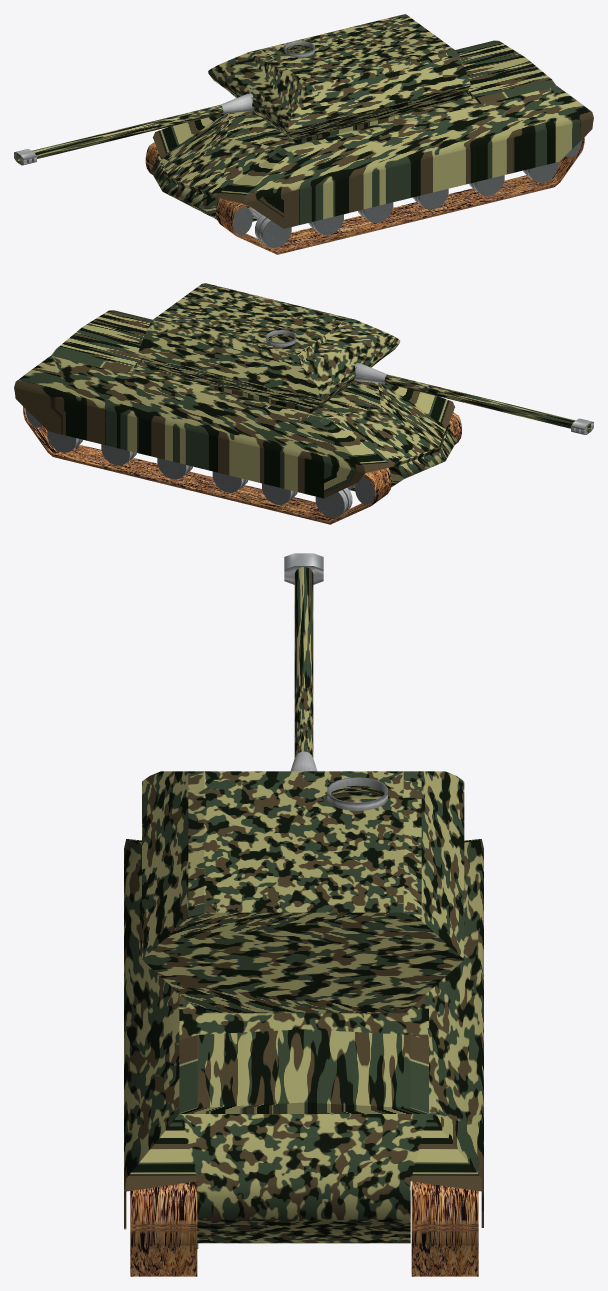
File: KPZ 20T.fbx
3 views of the same model, one above another, from view 1: azimuth 30°, elevation 25°; view 2: azimuth 150°, elevation 25°; view 3: azimuth 270°, elevation 25° (orthographic). The views are drawn at different scales.
Parts seen in each view (by area): view 1: Box443, Box450, pás030, 128mm dělo042, Cylinder330, část děla039, Cylinder316, Cylinder321, Cylinder325, Cylinder318, Cylinder328, pás032 (+1 smaller); view 2: Box443, Box450, pás029, 128mm dělo042, Cylinder297, Cylinder304, Cylinder310, část děla039, Cylinder301, Cylinder307, Cylinder298, pás027 (+1 smaller); view 3: Box443, Box450, 128mm dělo042, pás030, pás029, pás032, pás027, Cylinder341, Box445.
Boxes of the visible parts, box(x1,y1,x2,y2) form: Box443: box(150, 40, 593, 228); Box450: box(208, 14, 471, 143); pás030: box(216, 139, 584, 254); 128mm dělo042: box(16, 105, 223, 163); Cylinder330: box(259, 218, 291, 247); část děla039: box(220, 93, 253, 113); Cylinder316: box(526, 162, 558, 182); Cylinder321: box(416, 189, 448, 209); Cylinder325: box(361, 202, 393, 222); Cylinder318: box(472, 175, 504, 195); Cylinder328: box(311, 214, 343, 235); pás032: box(216, 137, 584, 223); Box443: box(14, 310, 457, 498); Box450: box(137, 283, 400, 413); pás029: box(23, 408, 391, 524); 128mm dělo042: box(384, 374, 591, 432); Cylinder297: box(315, 490, 347, 517); Cylinder304: box(157, 458, 189, 479); Cylinder310: box(47, 430, 79, 452); část děla039: box(354, 363, 387, 383); Cylinder301: box(212, 471, 244, 492); Cylinder307: box(101, 444, 133, 465); Cylinder298: box(262, 483, 294, 504); pás027: box(23, 406, 391, 493); Box443: box(124, 839, 483, 1243); Box450: box(142, 771, 464, 1013); 128mm dělo042: box(294, 567, 313, 757); pás030: box(130, 1227, 197, 1276); pás029: box(411, 1227, 478, 1276); pás032: box(130, 1181, 197, 1227); pás027: box(411, 1181, 478, 1227); Cylinder341: box(327, 777, 387, 810); Box445: box(284, 553, 323, 584).
Bounding box in the file's own units: 231 × 61.1 × 67.96.
3 materials, 3 textured.
